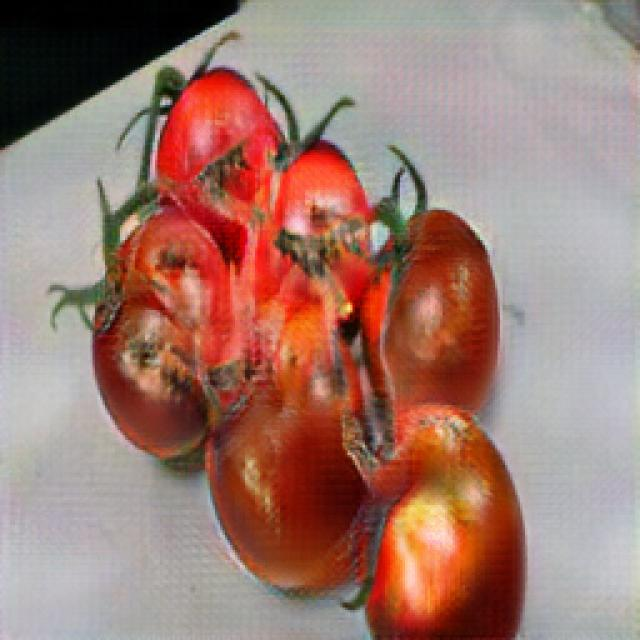overripe tomato: (204, 330, 369, 600), (357, 409, 529, 636), (84, 222, 234, 467), (364, 206, 506, 410)
